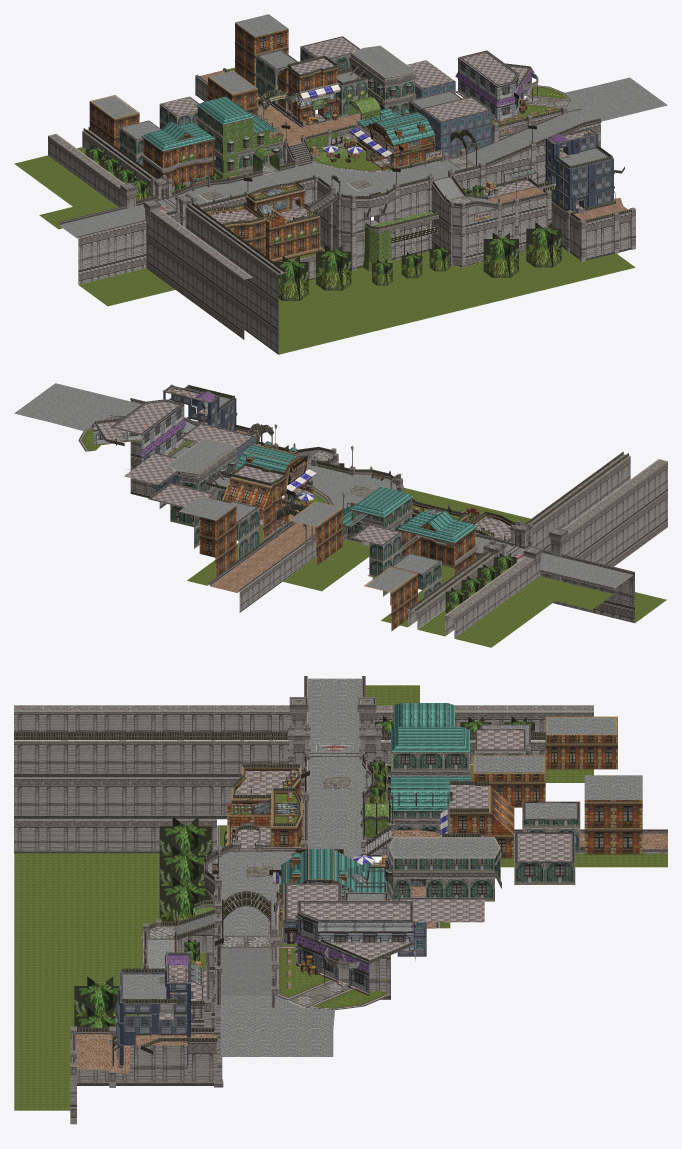
The model's file is WestStreet.glb.
The picture shows the model from 3 angles, top to bottom: view 1: azimuth 30°, elevation 25°; view 2: azimuth 150°, elevation 25°; view 3: azimuth 270°, elevation 25°; orthographic projection. The views are drawn at different scales.
Visible parts, largest first — view 1: weststreet; view 2: weststreet; view 3: weststreet.
Part boxes in pixels (<box>): weststreet: <box>14,14,667,354</box>; weststreet: <box>14,383,667,647</box>; weststreet: <box>14,676,667,1124</box>.
Size of the model in its own units: 132 by 30.44 by 90.23.
26 materials, 26 textured.
